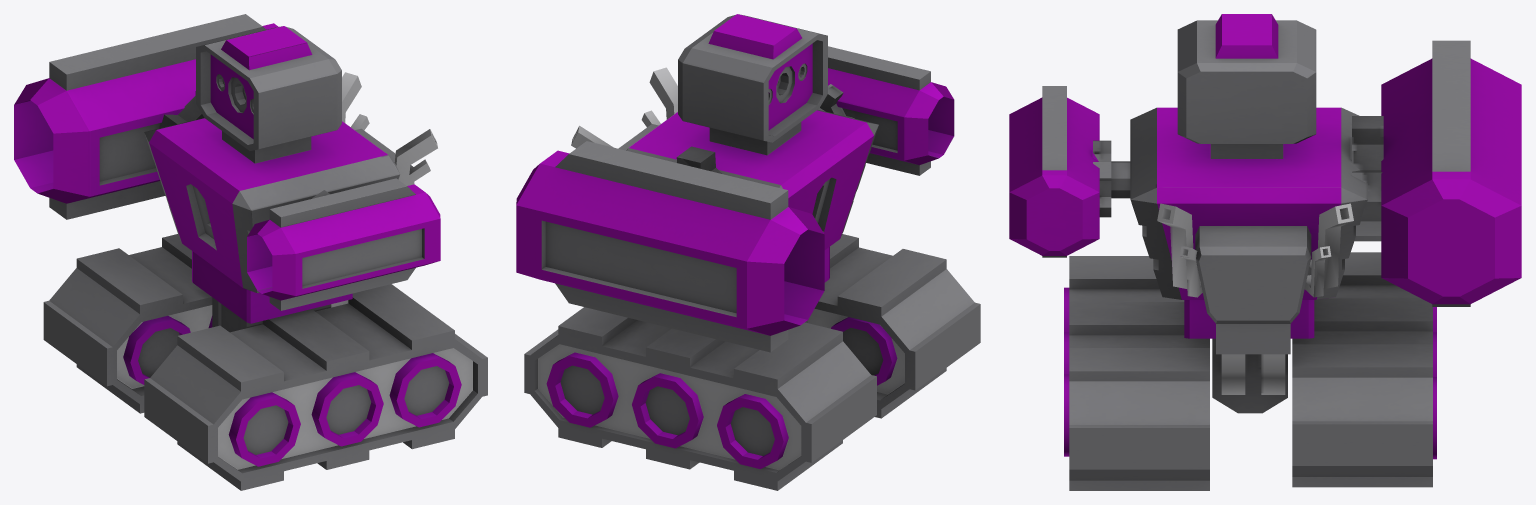
The model's file is Enemy2_Idle11.obj.
3 renders of one model, left to right at view 1: azimuth 30°, elevation 25°; view 2: azimuth 150°, elevation 25°; view 3: azimuth 270°, elevation 25°, orthographic. The views are drawn at different scales.
Parts seen in each view (by area): view 1: Object006, Object007, Object010, Object009; view 2: Object006, Object007, Object010, Object009; view 3: Object006, Object007, Object010, Object009, Object008.
Boxes of the visible parts, x1,y1,x2,y2 form: Object006: (14, 14, 487, 490); Object007: (144, 26, 400, 332); Object010: (331, 72, 437, 307); Object009: (159, 91, 204, 128); Object006: (516, 46, 980, 490); Object007: (626, 14, 878, 322); Object010: (571, 67, 677, 150); Object009: (676, 146, 721, 173); Object006: (1009, 40, 1521, 490); Object007: (1130, 14, 1367, 413); Object010: (1157, 203, 1353, 394); Object009: (1352, 116, 1383, 241); Object008: (1093, 140, 1130, 217).
Size of the model in its own units: 87.45 by 109 by 125.
